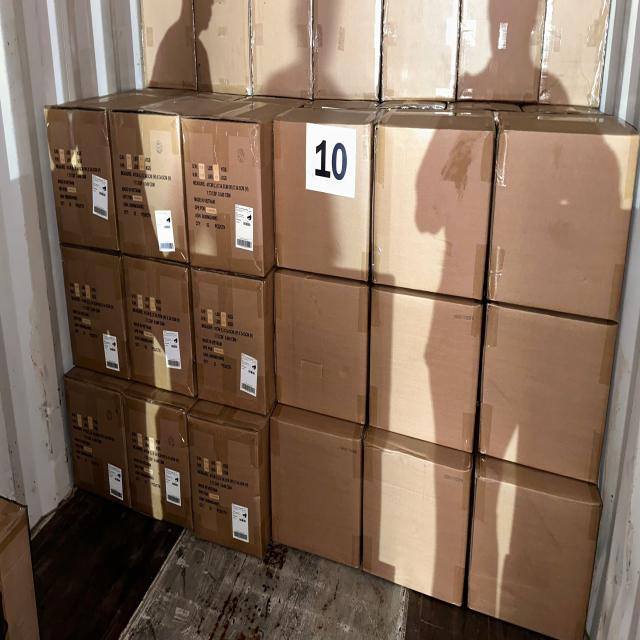Carton: (499, 125, 639, 327), (486, 303, 614, 490), (476, 470, 600, 640), (374, 122, 486, 304), (371, 287, 477, 458), (364, 437, 466, 608), (274, 119, 368, 281), (273, 270, 367, 430), (180, 115, 269, 277), (270, 415, 360, 569), (109, 107, 189, 265), (185, 412, 267, 562), (190, 266, 270, 418), (122, 384, 194, 540), (122, 252, 196, 396), (46, 106, 118, 252), (60, 372, 128, 514), (57, 242, 126, 378)
